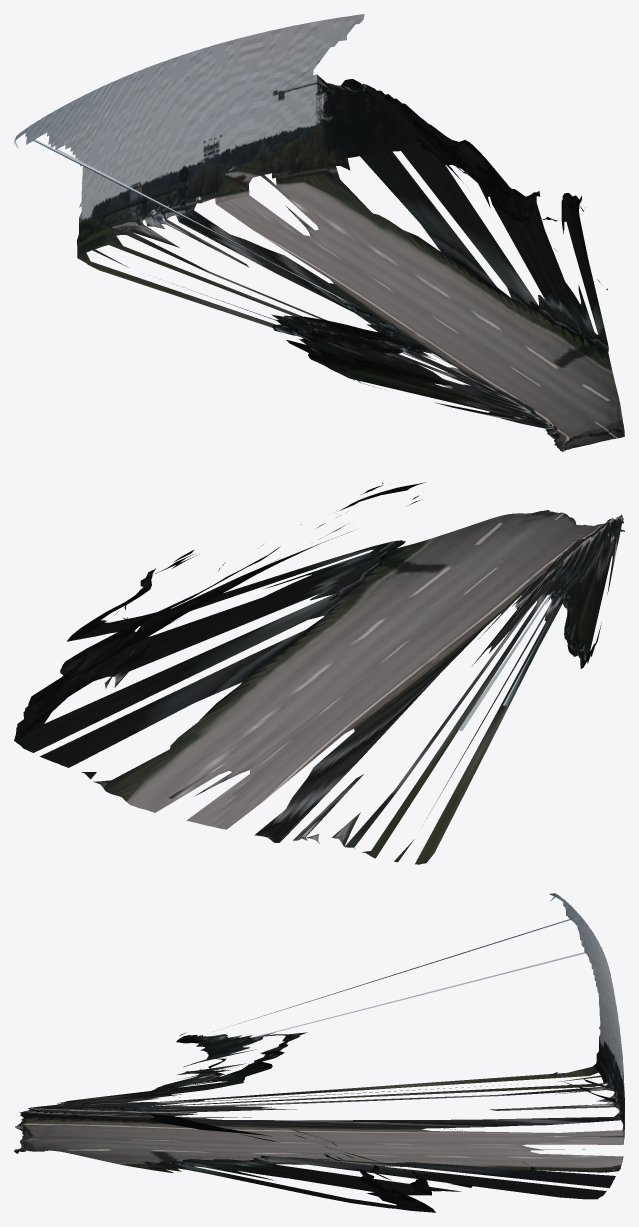
3 renders of one model, top to bottom at view 1: azimuth 30°, elevation 25°; view 2: azimuth 150°, elevation 25°; view 3: azimuth 270°, elevation 25°, orthographic. The views are drawn at different scales.
Visible parts, largest first — view 1: defaultobject; view 2: defaultobject; view 3: defaultobject.
Part boxes in pixels (x1,y1,x2,y2): defaultobject: (14, 14, 624, 451); defaultobject: (14, 482, 624, 864); defaultobject: (14, 893, 624, 1212).
Bounding box in the file's own units: 35.98 × 12.31 × 44.68.
1 material, 1 textured.
